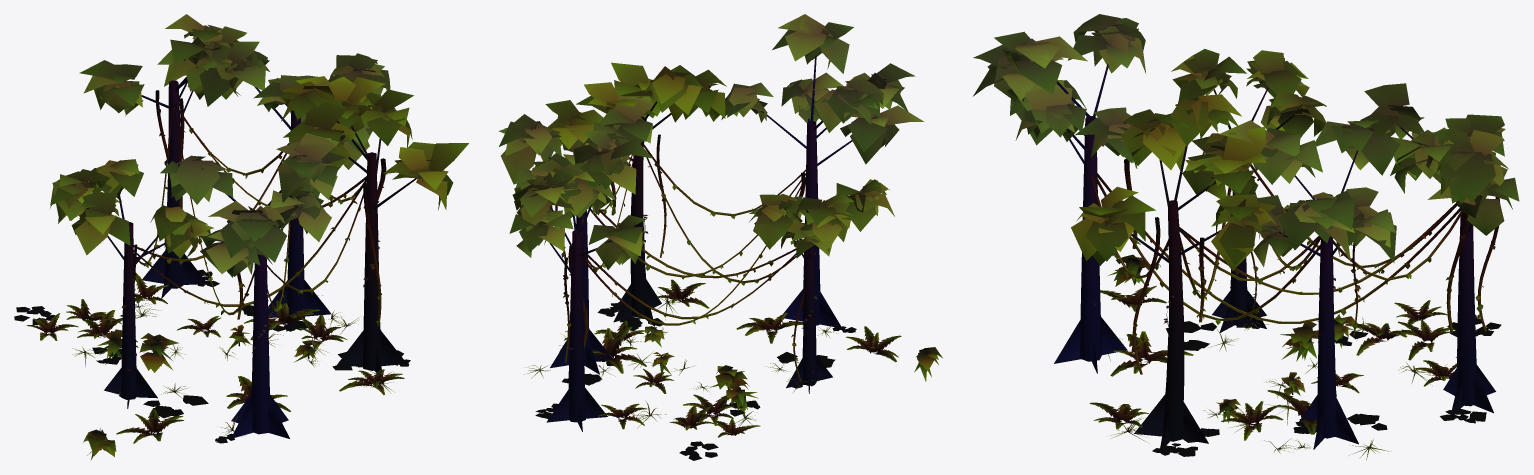
Rendered from patch_vine_hall.glb.
3 renders of one model, left to right at view 1: azimuth 30°, elevation 25°; view 2: azimuth 150°, elevation 25°; view 3: azimuth 270°, elevation 25°, orthographic. The views are drawn at different scales.
Parts seen in each view (by area): view 1: patch_vine_hall; view 2: patch_vine_hall; view 3: patch_vine_hall.
Part boxes in pixels (x1,y1,x2,y2): patch_vine_hall: (14,14,468,459); patch_vine_hall: (498,14,942,460); patch_vine_hall: (973,14,1519,460).
Size of the model in its own units: 17.8 by 13.52 by 19.63.
Materials: 1 (1 with a texture image).
